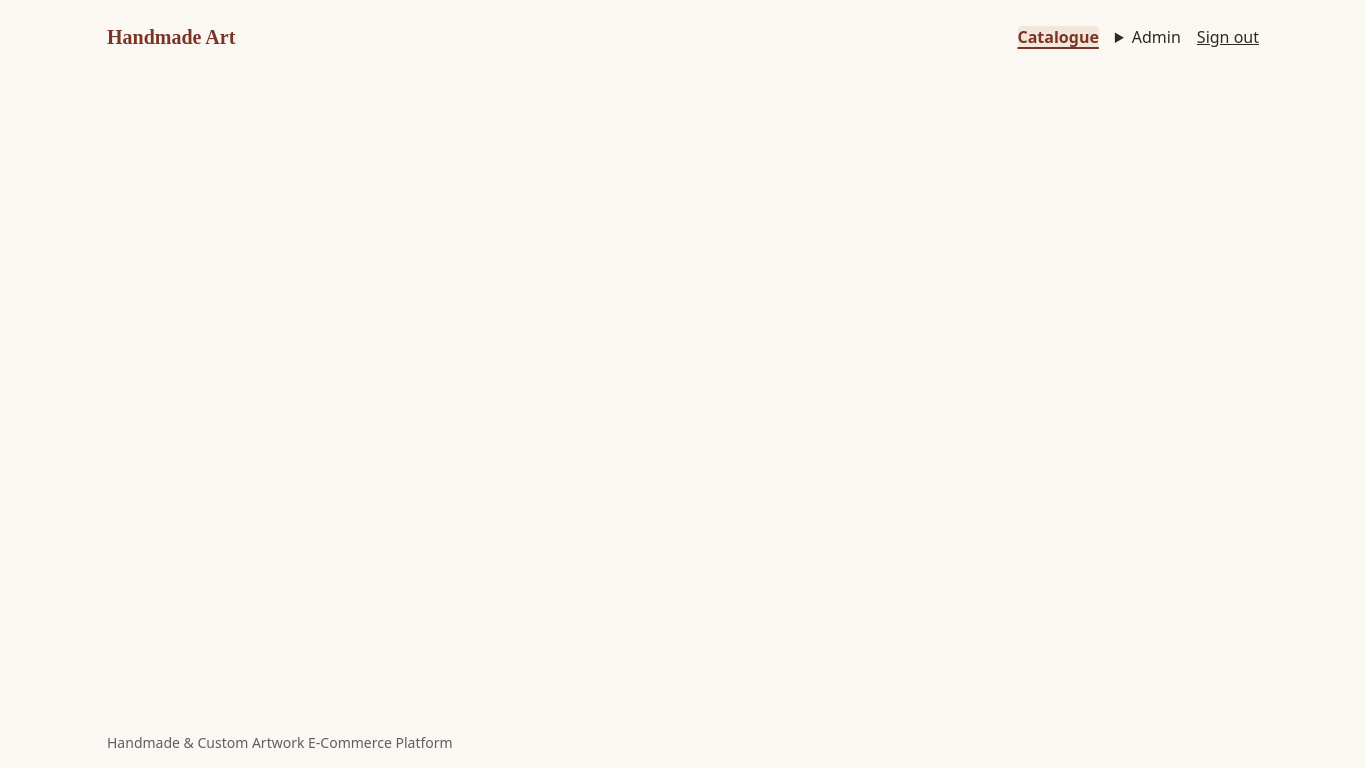
Test: responsive navigation › preserves all ADMIN destinations without customer links
Click the heading "Admin" at (1156, 37), box [1132,26,1181,48]
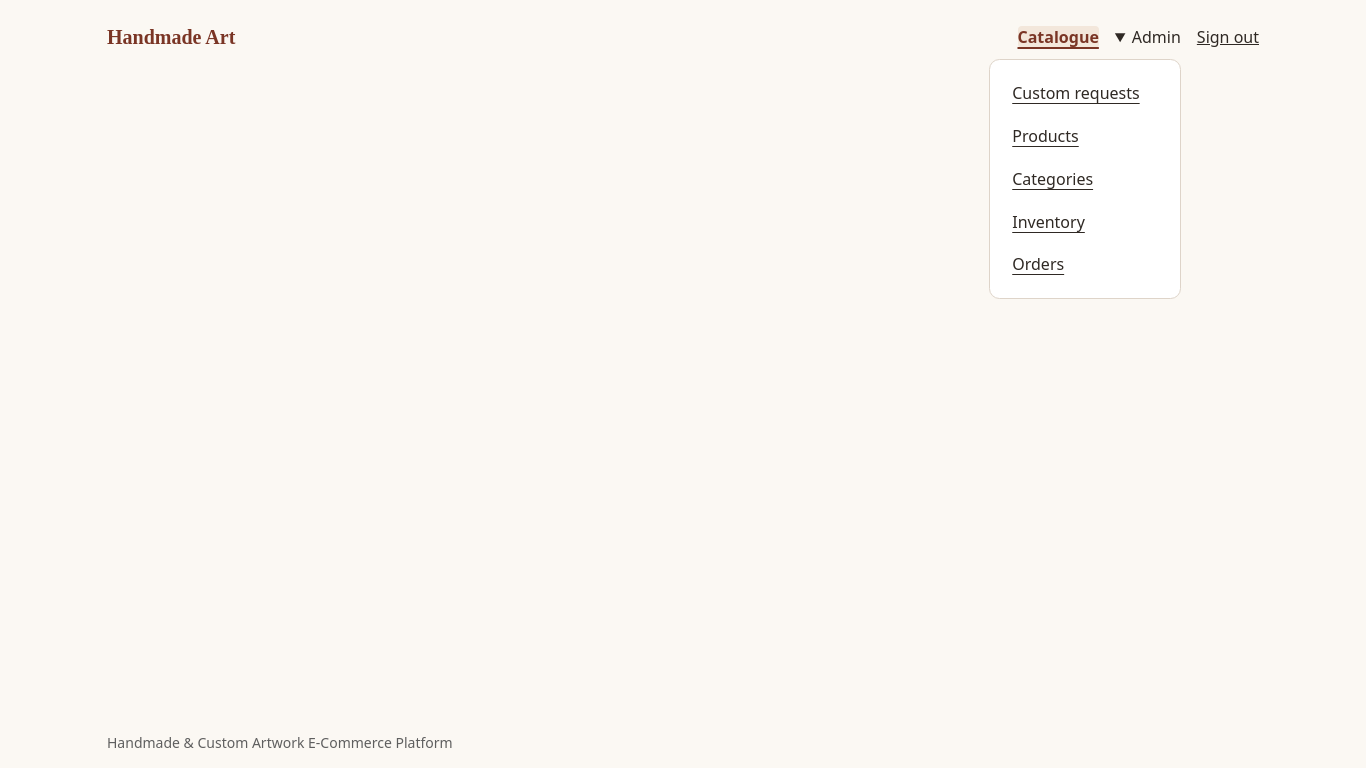
Result: the link "Products" is shown at [1012,125,1079,147]
Result: the link "Categories" is shown at [1012,168,1093,190]
Result: the link "Inventory" is shown at [1012,210,1085,232]
